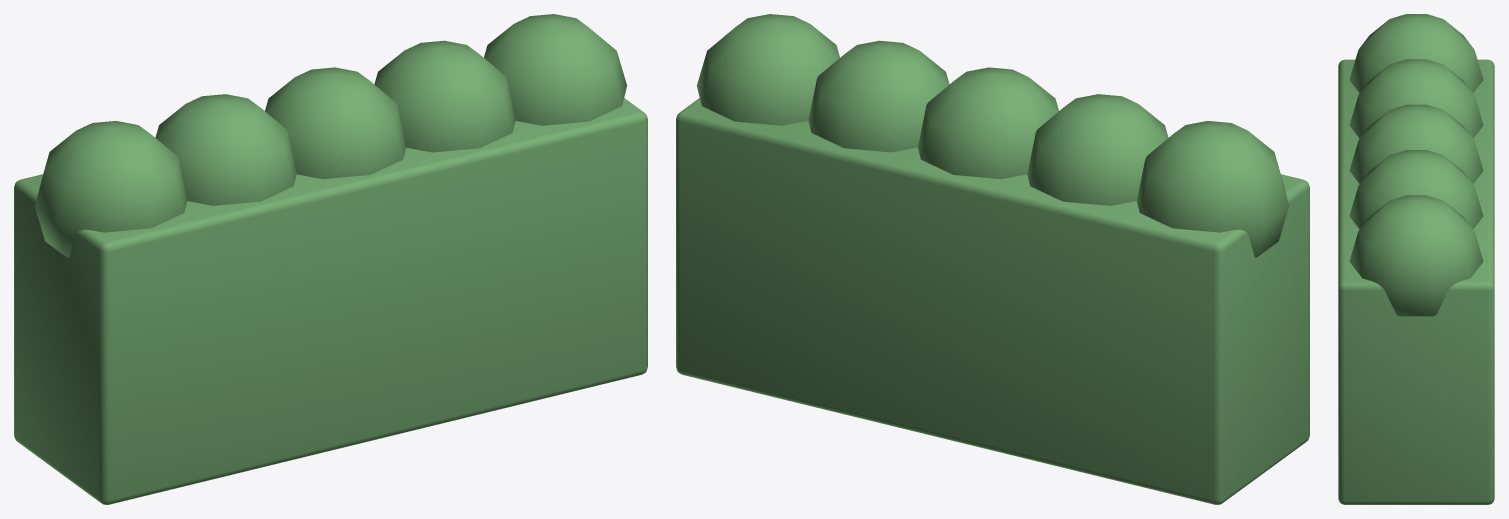
File: th6_hecke_modul.glb
3 renders of one model, left to right at view 1: azimuth 30°, elevation 25°; view 2: azimuth 150°, elevation 25°; view 3: azimuth 270°, elevation 25°, orthographic. The views are drawn at different scales.
Visible parts, largest first — view 1: Cube, Sphere, Sphere.004, Sphere.002, Sphere.001, Sphere.003; view 2: Cube, Sphere, Sphere.004, Sphere.002, Sphere.001, Sphere.003; view 3: Cube, Sphere.004, Sphere, Sphere.003, Sphere.002, Sphere.001.
Part boxes in pixels (bbox=[...]): Cube: bbox=[14, 98, 647, 504]; Sphere: bbox=[35, 121, 186, 257]; Sphere.004: bbox=[484, 14, 626, 125]; Sphere.002: bbox=[265, 67, 405, 179]; Sphere.001: bbox=[155, 94, 296, 205]; Sphere.003: bbox=[374, 40, 515, 152]; Cube: bbox=[676, 98, 1309, 504]; Sphere: bbox=[1137, 121, 1288, 257]; Sphere.004: bbox=[697, 14, 839, 125]; Sphere.002: bbox=[918, 67, 1058, 179]; Sphere.001: bbox=[1027, 94, 1168, 205]; Sphere.003: bbox=[808, 40, 949, 152]; Cube: bbox=[1338, 59, 1494, 504]; Sphere.004: bbox=[1349, 195, 1483, 316]; Sphere: bbox=[1349, 14, 1483, 93]; Sphere.003: bbox=[1349, 150, 1483, 229]; Sphere.002: bbox=[1349, 104, 1483, 183]; Sphere.001: bbox=[1349, 59, 1483, 138].
Bounding box in the file's own units: 2.49 × 1.4 × 0.7.
